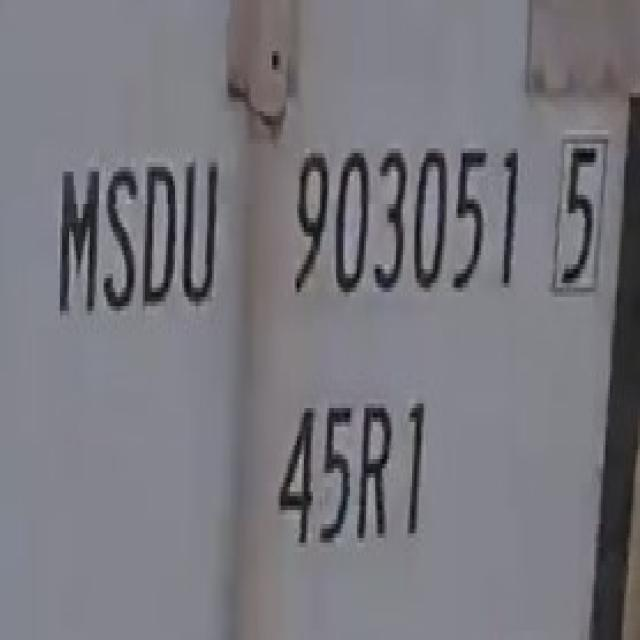dv: (554, 123, 613, 310)
owner: (53, 136, 222, 331)
serial: (280, 110, 530, 316)
size: (272, 385, 433, 572)
